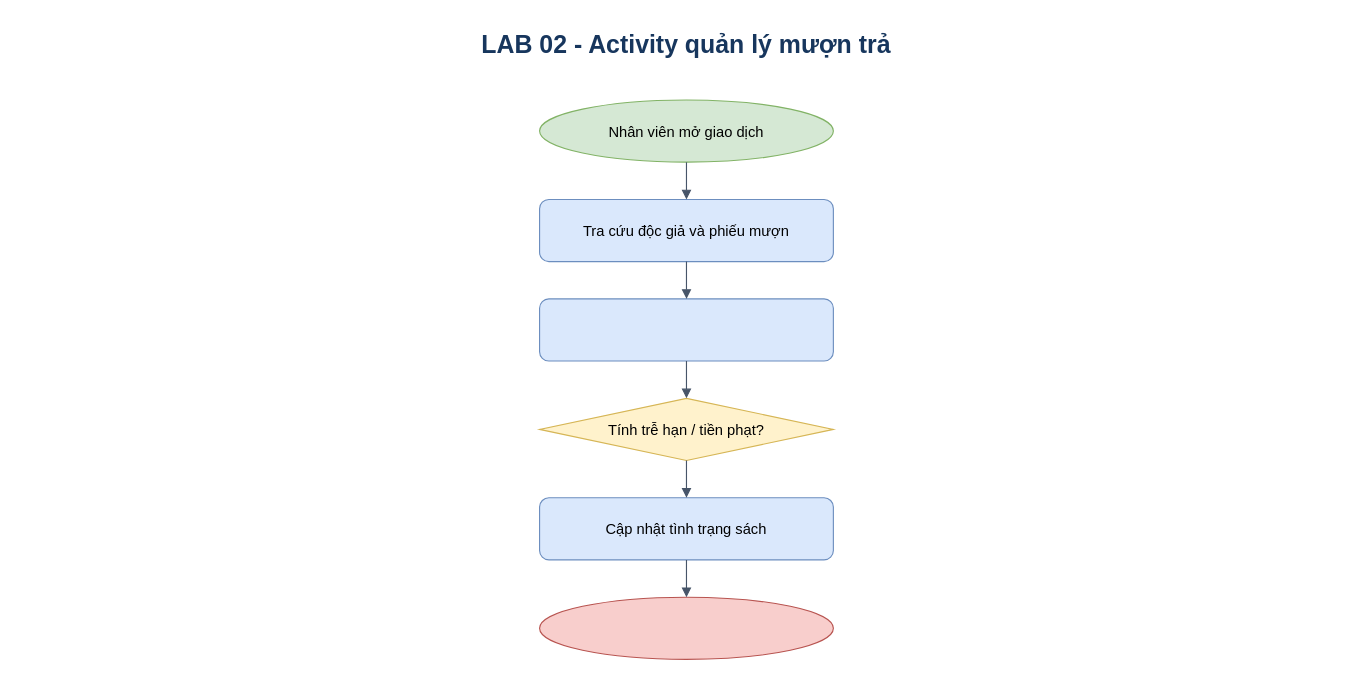
This 1372x679 diagram has some shape labels left out. The centre of each missing label's shape, as x and y in pixels:
"Lưu phiếu trả và kết quả" belongs at (x=685, y=627).
"Đối chiếu sách trả" belongs at (x=685, y=329).
